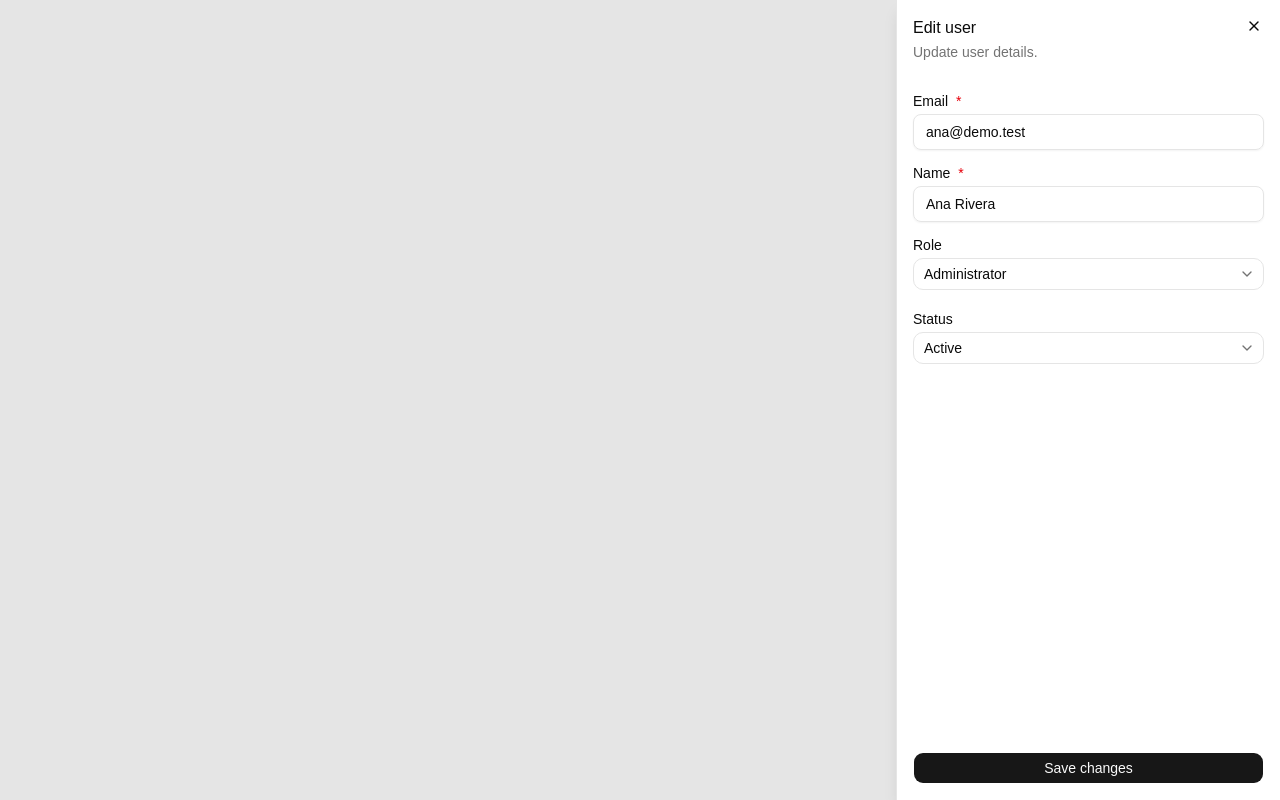
UserForm lower-role hint (H15) › UserForm_ShouldShowTheHint_WhenA_admin_IsLoweredTo_Supervisor
This screenshot has width=1280, height=800.
Click the dropdown with test id "user-form-role" at (965, 274), box [913, 258, 1264, 290]
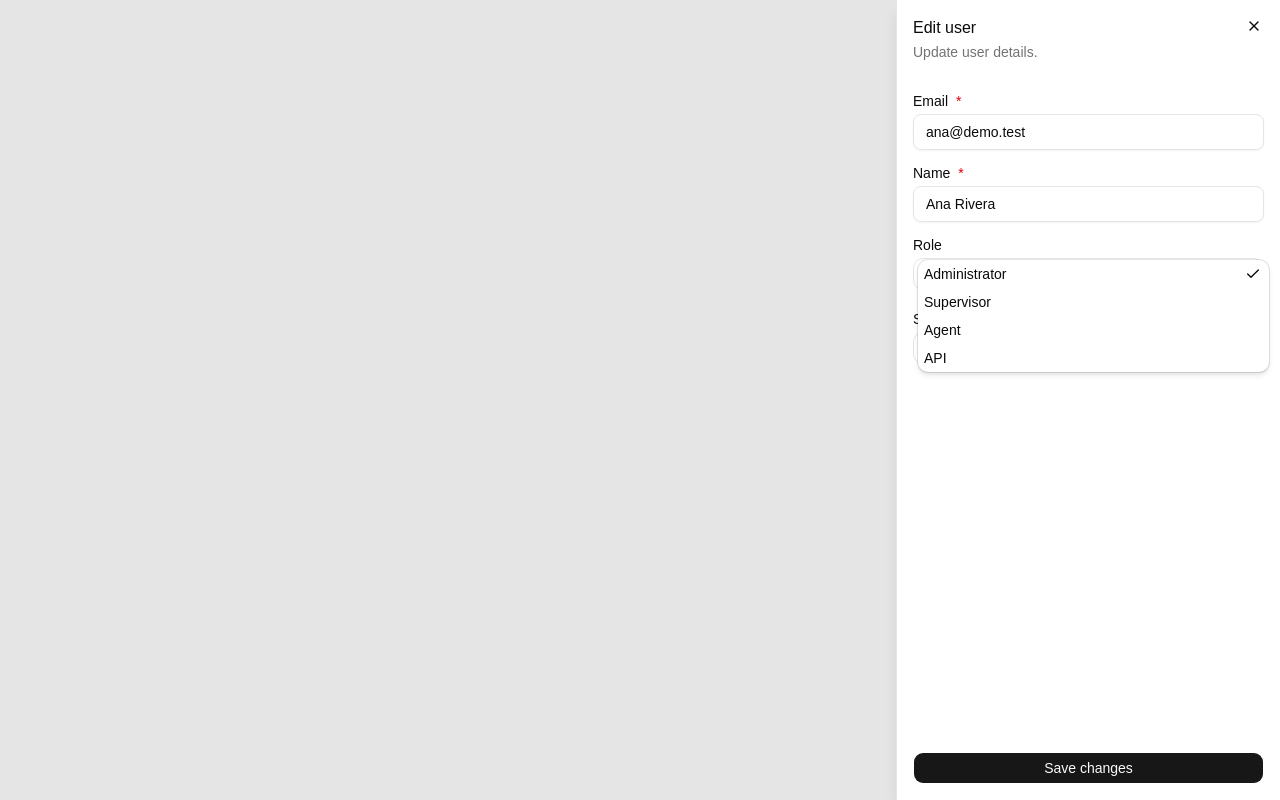
Click the option with test id "user-form-role-option-Supervisor" at (957, 302), box [924, 294, 991, 310]
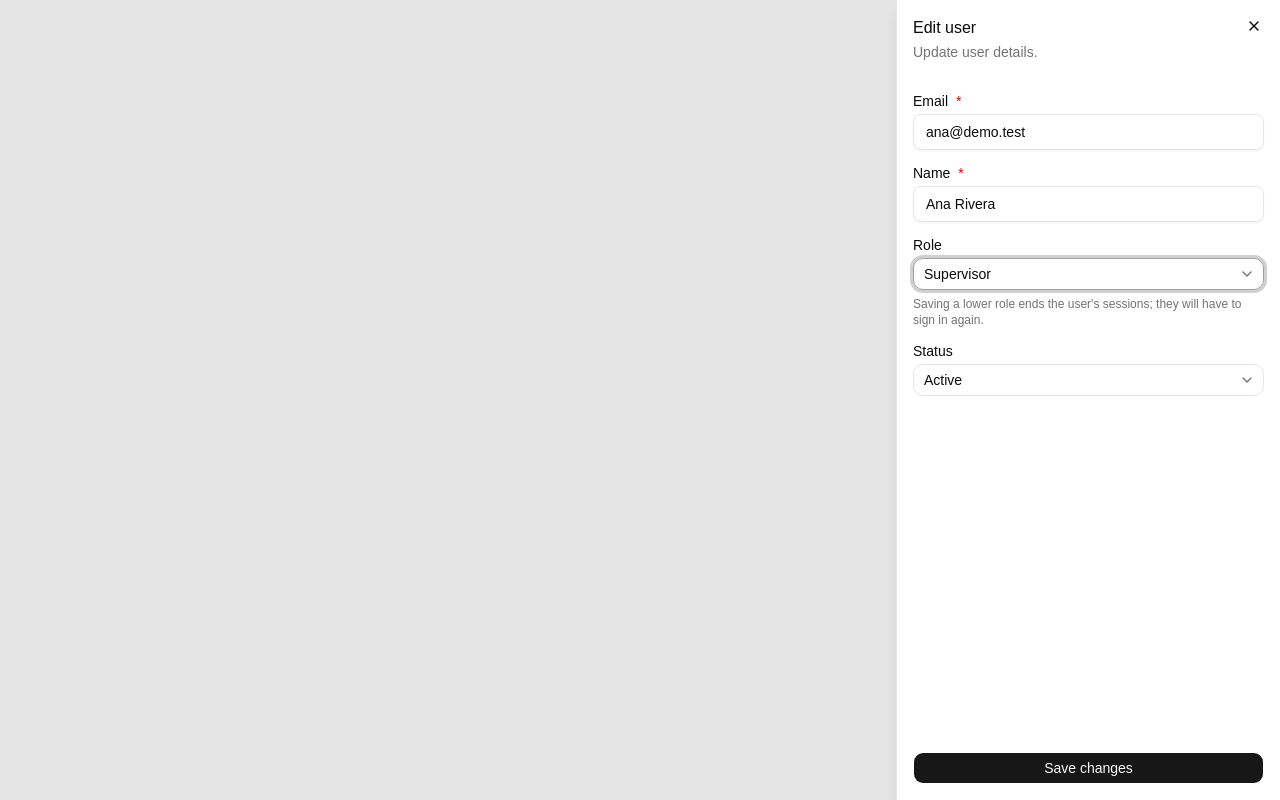
Check: no options are shown
Check: the text with test id "user-form-role-hint" reads "Saving a lower role ends the user's sessions; they will have to sign in again.", box [913, 297, 1242, 327]
